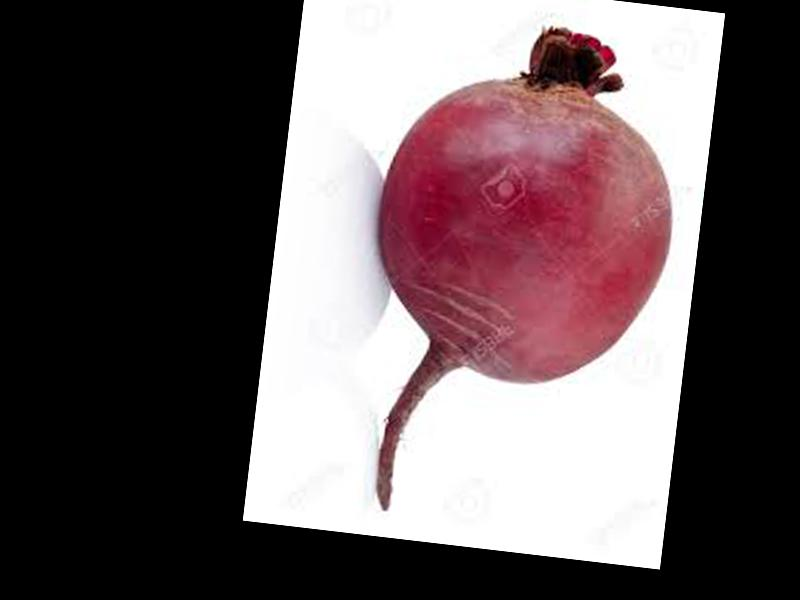Beet: (345, 14, 690, 539)
